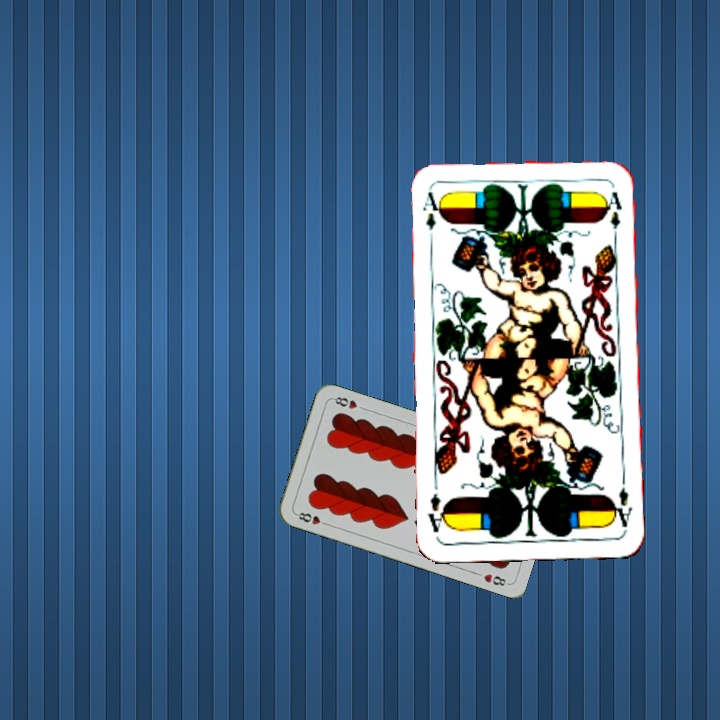EA: (419, 188, 442, 247), (608, 483, 634, 532)
H8: (292, 508, 331, 528)
